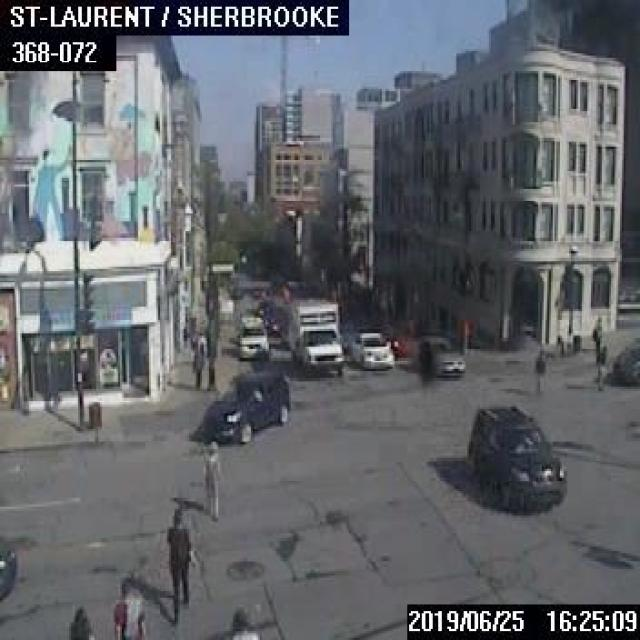pedestrian: (167, 509, 191, 622), (111, 578, 145, 638), (200, 440, 222, 518), (227, 606, 260, 638), (66, 604, 89, 638), (189, 340, 204, 389), (591, 335, 605, 387), (531, 347, 544, 389), (591, 315, 601, 349)
vehicle: (466, 400, 566, 509), (202, 369, 288, 440), (288, 296, 342, 371), (414, 332, 463, 374), (350, 329, 392, 367), (235, 315, 268, 355), (613, 338, 638, 384), (0, 537, 16, 606)
